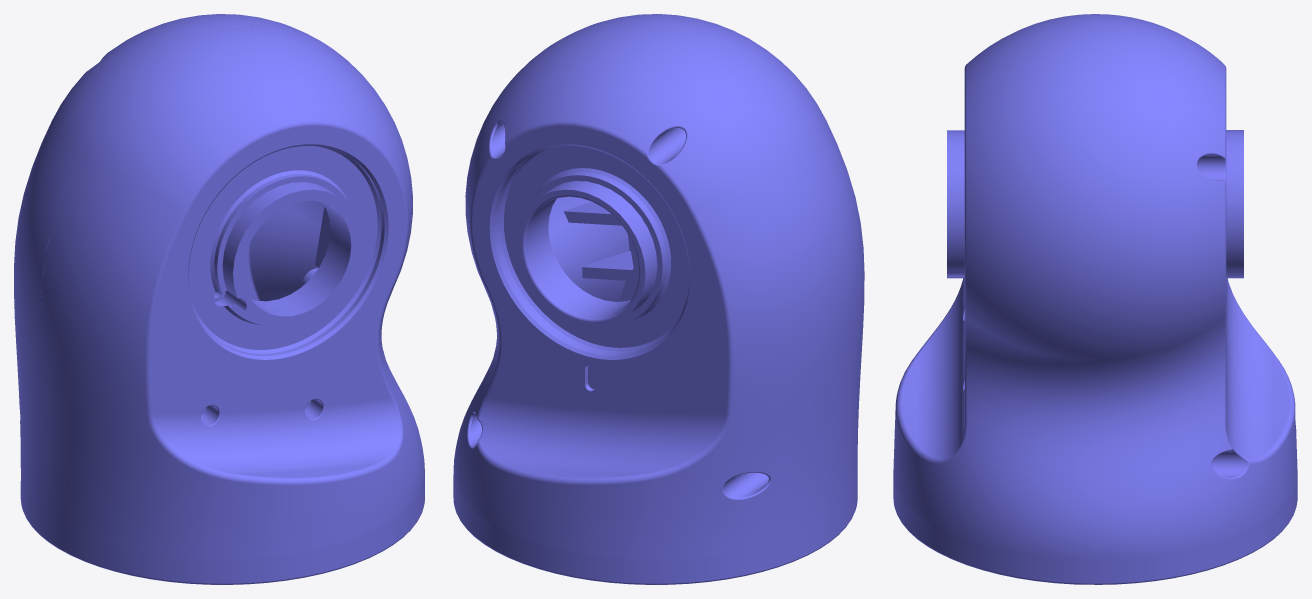
3 views of the same model, side by side, from view 1: azimuth 30°, elevation 25°; view 2: azimuth 150°, elevation 25°; view 3: azimuth 270°, elevation 25° (orthographic).
Visible parts, largest first — view 1: Brep (×2); view 2: Brep (×2); view 3: Brep (×2).
Part boxes in pixels (box(x1,y1,x2,y2)): Brep (×2): box(14, 14, 424, 584); Brep (×2): box(453, 14, 864, 584); Brep (×2): box(893, 14, 1297, 584).
Bounding box in the file's own units: 69.35 × 68 × 86.99.
